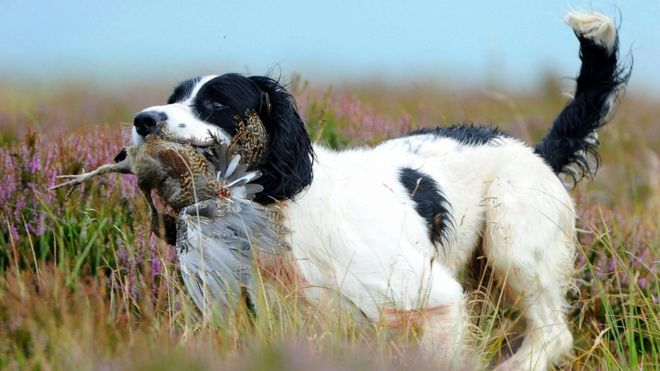tail: (535, 6, 635, 185)
